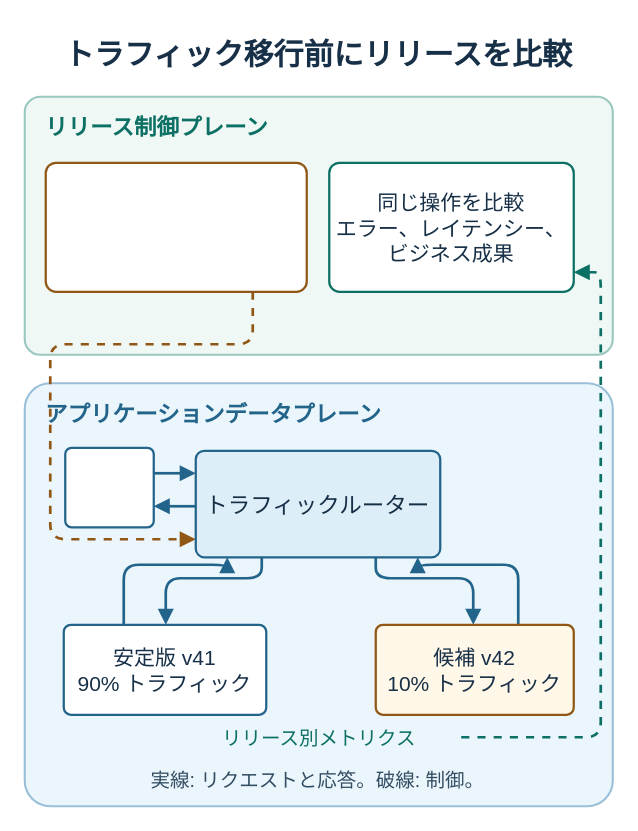
This 638x831 diagram has some shape labels left out. The centre of each missing label's shape, as x and y in pixels:
"利用元" belongs at [108,487].
"重み変更を承認 停止または安定版へ復元" belongs at [175,226].
